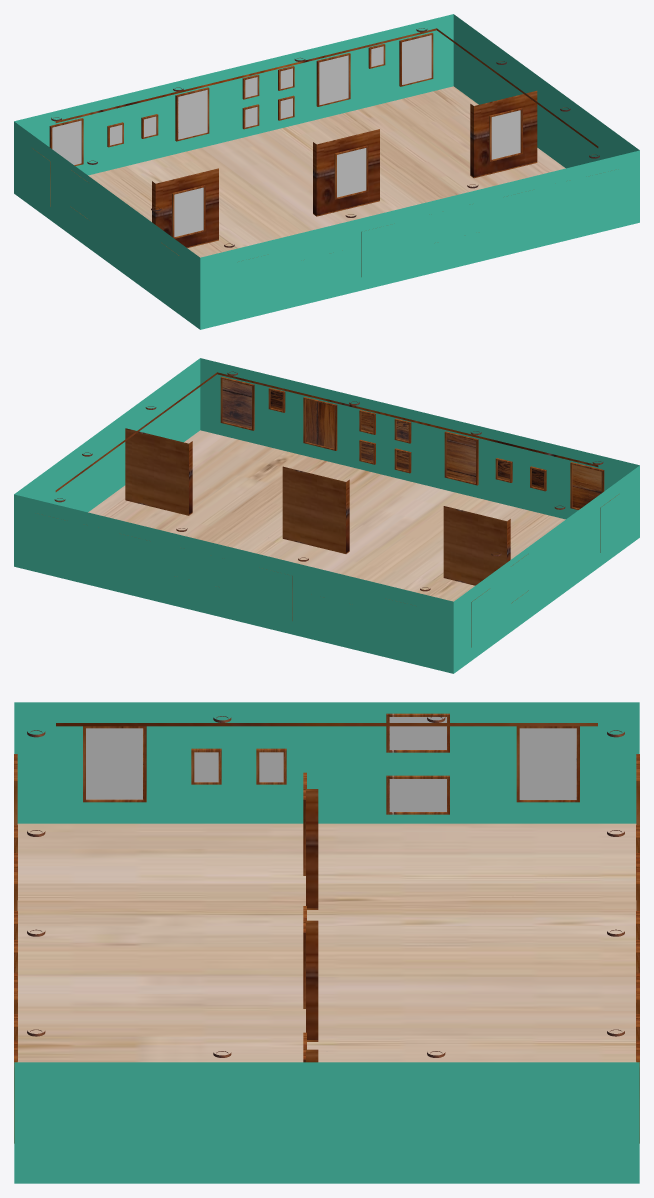
The model's file is TexturaQuadroTodos.glb.
The picture shows the model from 3 angles, top to bottom: view 1: azimuth 30°, elevation 25°; view 2: azimuth 150°, elevation 25°; view 3: azimuth 270°, elevation 25°; orthographic projection. The views are drawn at different scales.
Parts seen in each view (by area): view 1: Parede, PLANE_003, PLANE_001, PLANE_008, PLANE_029, PLANE_031, PLANE_030, PLANE_011; view 2: Parede; view 3: Parede, PLANE_012, PLANE_017, PLANE_014, PLANE_013, Lights, PLANE_015, PLANE_016.
Boxes of the visible parts, x1=… form: Parede: x1=14, y1=14, x2=639, y2=329; PLANE_003: x1=319, y1=55, x2=348, y2=105; PLANE_001: x1=402, y1=35, x2=431, y2=84; PLANE_008: x1=178, y1=90, x2=207, y2=139; PLANE_029: x1=174, y1=187, x2=203, y2=236; PLANE_031: x1=491, y1=110, x2=520, y2=159; PLANE_030: x1=337, y1=148, x2=366, y2=197; PLANE_011: x1=52, y1=120, x2=81, y2=164; Parede: x1=14, y1=358, x2=639, y2=673; Parede: x1=14, y1=702, x2=639, y2=1183; PLANE_012: x1=519, y1=728, x2=576, y2=799; PLANE_017: x1=86, y1=728, x2=142, y2=799; PLANE_014: x1=389, y1=779, x2=446, y2=811; PLANE_013: x1=389, y1=717, x2=446, y2=749; Lights: x1=27, y1=716, x2=624, y2=1057; PLANE_015: x1=259, y1=752, x2=283, y2=782; PLANE_016: x1=194, y1=752, x2=218, y2=782.
Bounding box in the file's own units: 2764 × 447 × 2029.
4 materials, 2 textured.
